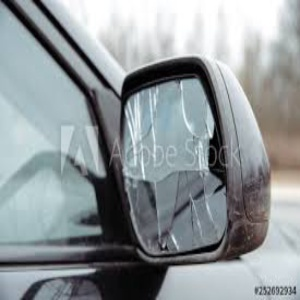side_mirror: (113, 59, 244, 266)
